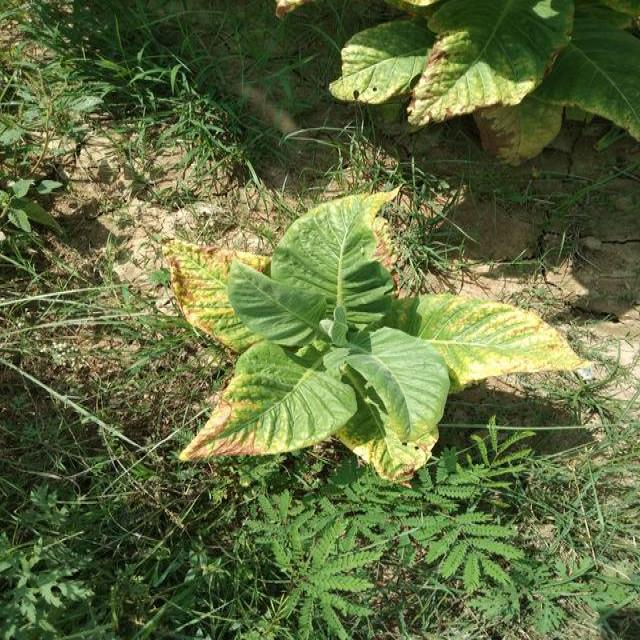crop: (163, 187, 582, 490)
